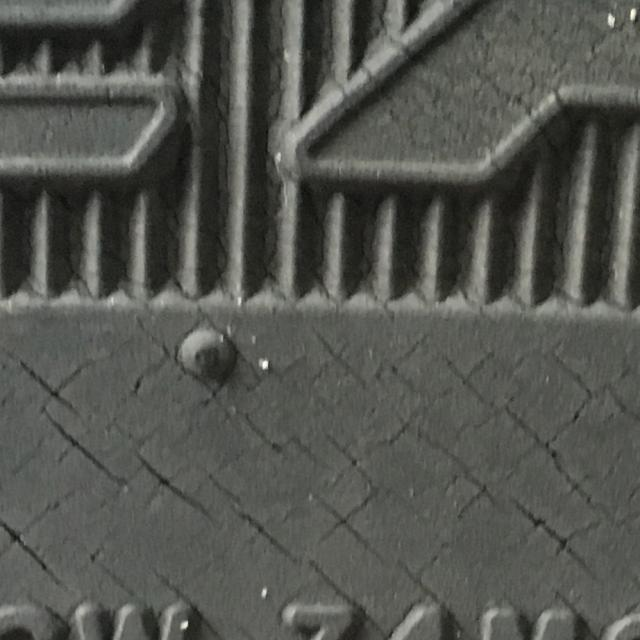Cracks: (0, 286, 639, 639), (269, 0, 639, 188)
